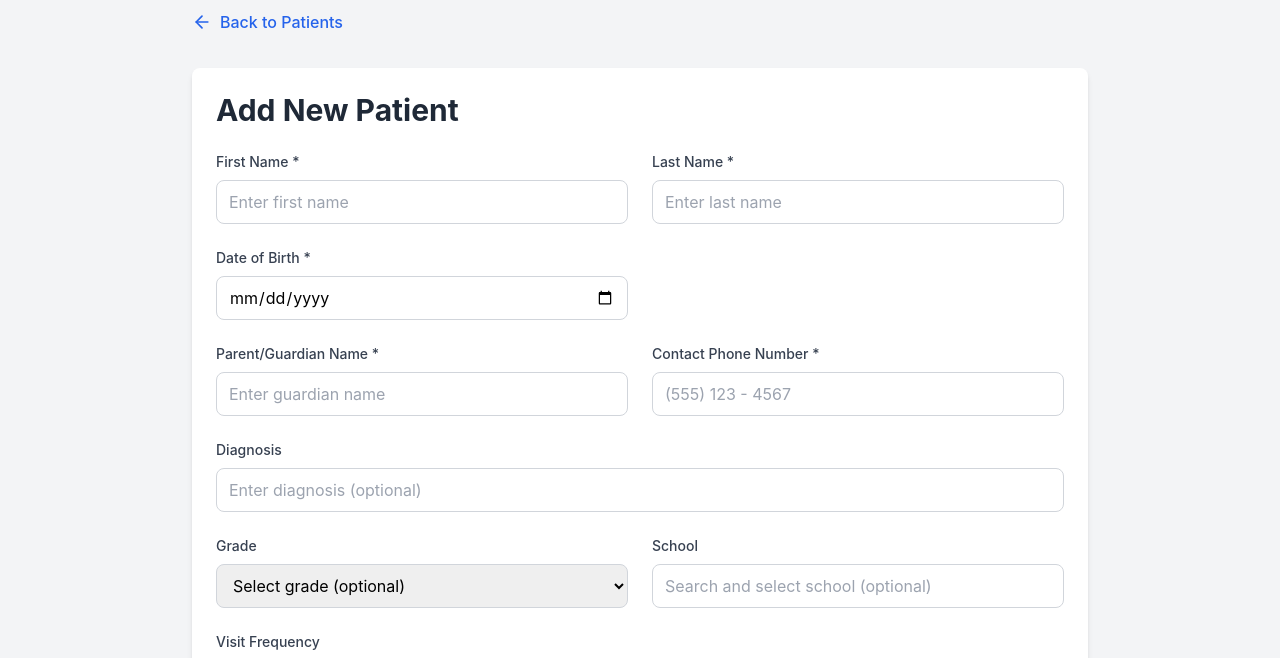
Test: shows age as text under the birth date, with no read-only age box
Type "2018-03-14" into the date field. click: (422, 298)
box: [216,276,628,320]
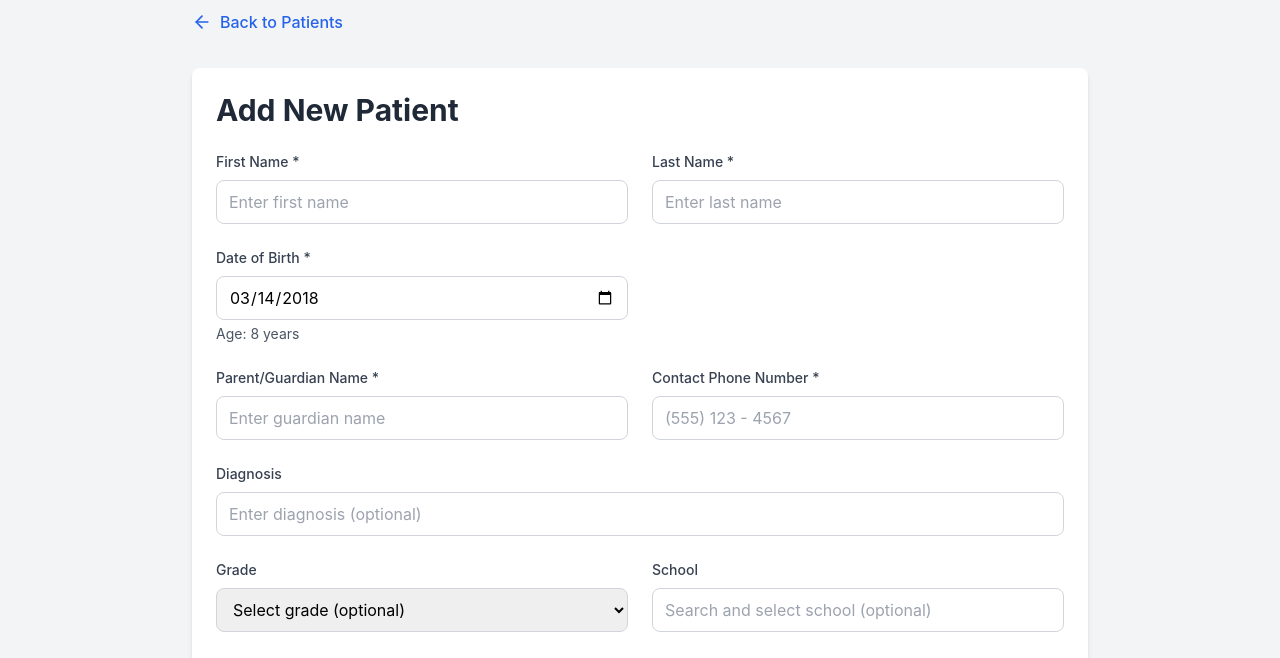
Check: the text "Age: 8 years" is shown, box [216,325,299,342]
